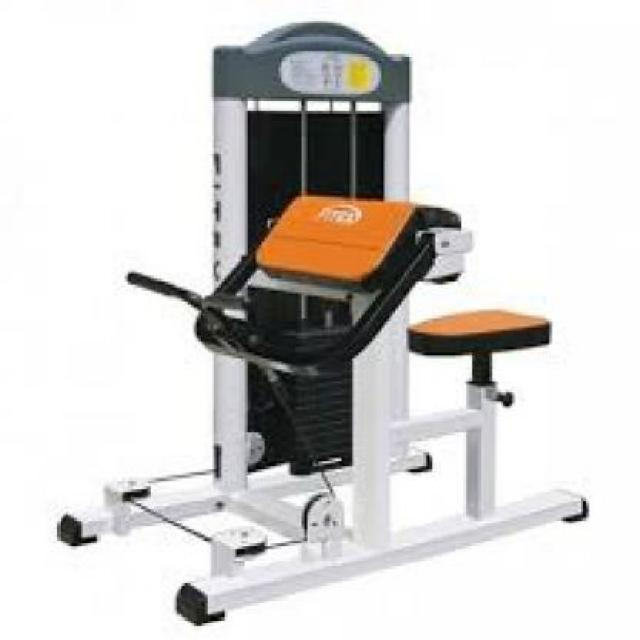arm curl machine: (55, 22, 594, 629)
